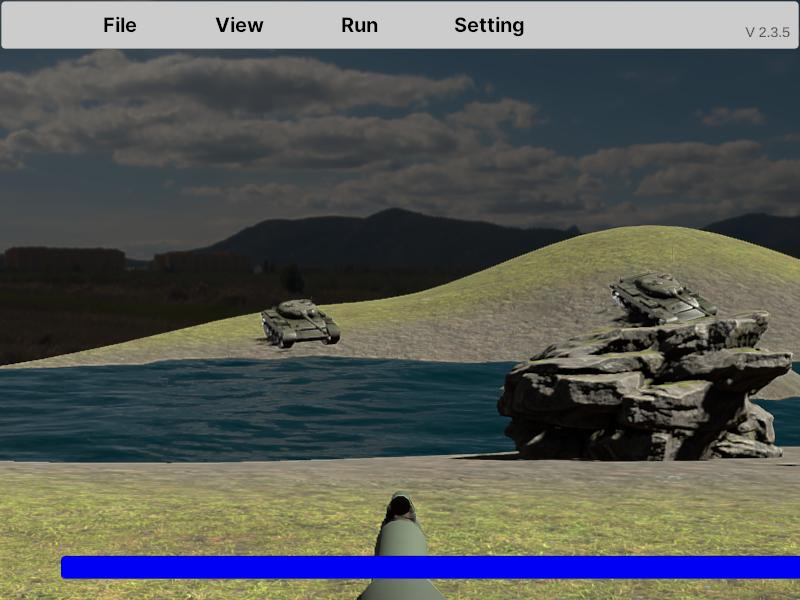Tank: (609, 272, 719, 327), (261, 298, 341, 348)
